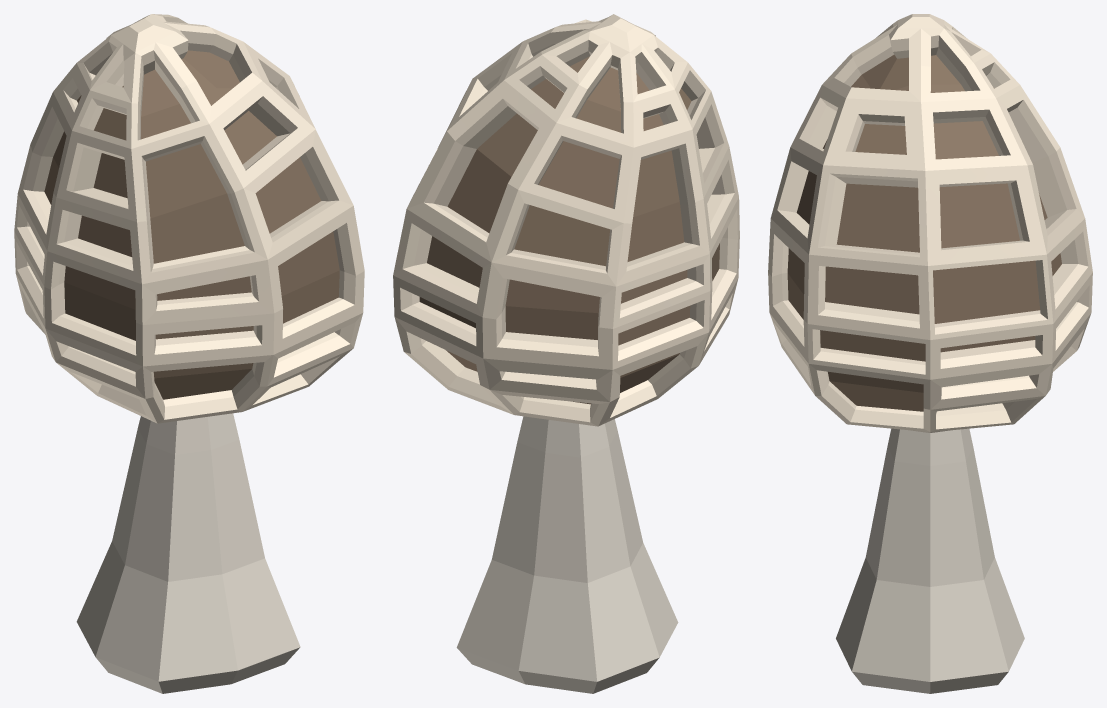
File: morel.fbx
The picture shows the model from 3 angles, left to right: view 1: azimuth 30°, elevation 25°; view 2: azimuth 150°, elevation 25°; view 3: azimuth 270°, elevation 25°; orthographic projection. The views are drawn at different scales.
Parts seen in each view (by area): view 1: Morel; view 2: Morel; view 3: Morel.
Part boxes in pixels (x1,y1,x2,y2): Morel: [14, 14, 364, 693]; Morel: [393, 14, 739, 693]; Morel: [768, 14, 1092, 693].
Bounding box in the file's own units: 114 × 248 × 116.
